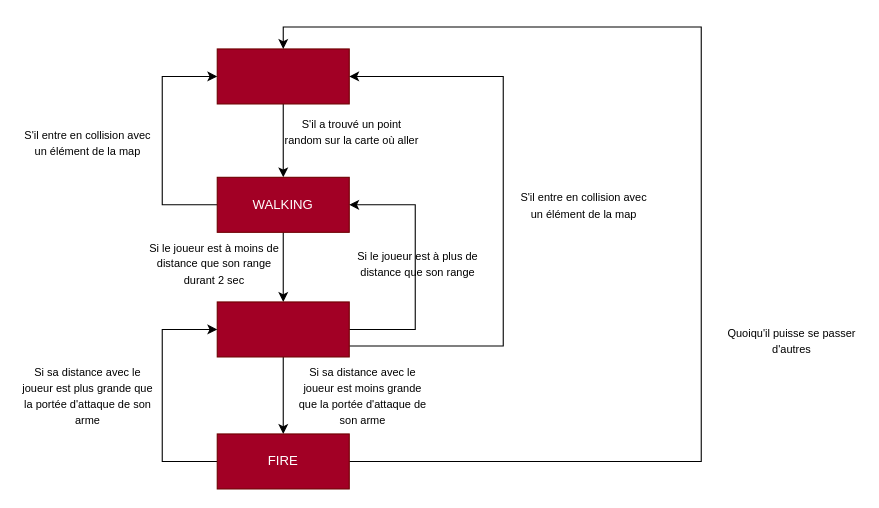
This 879x508 diagram has some shape labels left out. Here are the shapes that lost their labels. From the top down, the centre of each, then its label:
At (x=282, y=76): "IDLE".
At (x=282, y=329): "ALERT".
